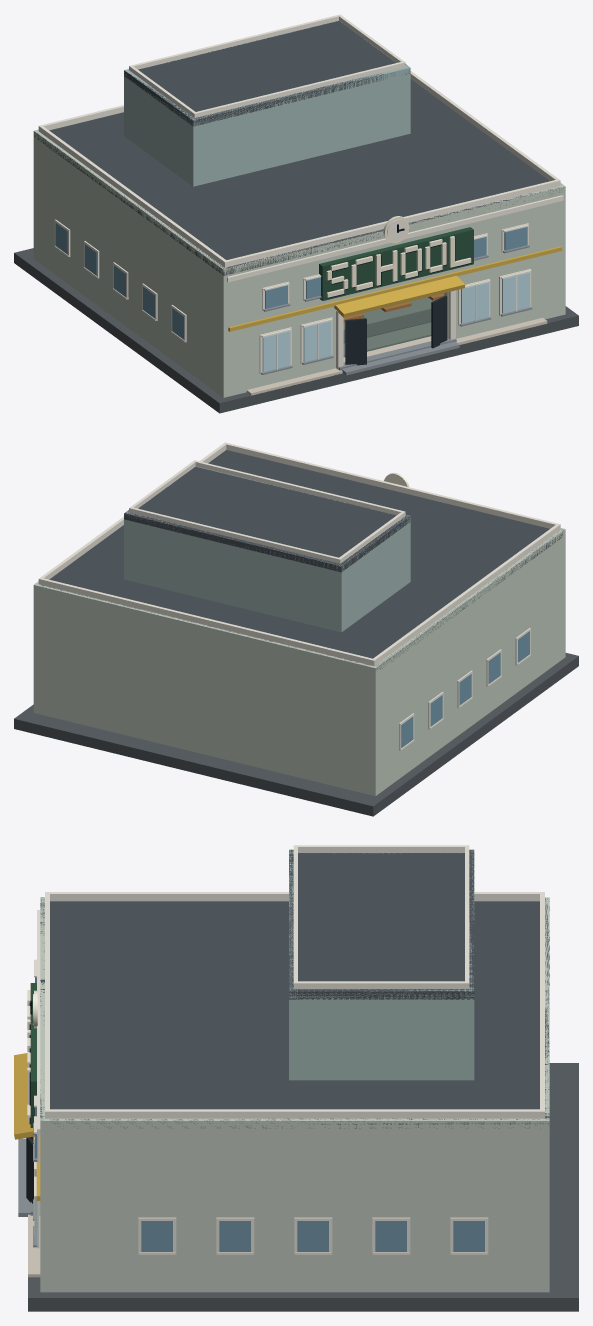
Rendered from school-building.glb.
3 renders of one model, top to bottom at view 1: azimuth 30°, elevation 25°; view 2: azimuth 150°, elevation 25°; view 3: azimuth 270°, elevation 25°, orthographic. The views are drawn at different scales.
Parts seen in each view (by area): view 1: school_cutaway_roof, school_hull_wall, school_exterior_detail, school_cutaway_upper, school_foundation, school_interior; view 2: school_hull_wall, school_cutaway_roof, school_cutaway_upper, school_foundation, school_exterior_detail; view 3: school_cutaway_roof, school_hull_wall, school_foundation, school_cutaway_upper, school_exterior_detail.
Part boxes in pixels (x1=…): school_cutaway_roof: x1=34, y1=14, x2=563, y2=275; school_hull_wall: x1=33, y1=129, x2=565, y2=397; school_exterior_detail: x1=54, y1=195, x2=563, y2=374; school_cutaway_upper: x1=124, y1=20, x2=410, y2=186; school_foundation: x1=14, y1=248, x2=578, y2=413; school_interior: x1=343, y1=293, x2=444, y2=357; school_hull_wall: x1=33, y1=528, x2=565, y2=796; school_cutaway_roof: x1=38, y1=442, x2=563, y2=669; school_cutaway_upper: x1=124, y1=466, x2=410, y2=632; school_foundation: x1=14, y1=653, x2=578, y2=816; school_exterior_detail: x1=384, y1=473, x2=530, y2=750; school_cutaway_roof: x1=40, y1=845, x2=549, y2=1128; school_hull_wall: x1=40, y1=897, x2=549, y2=1292; school_foundation: x1=18, y1=1063, x2=578, y2=1311; school_cutaway_upper: x1=289, y1=849, x2=474, y2=1080; school_exterior_detail: x1=14, y1=910, x2=488, y2=1254.
Size of the model in its own units: 22.8 by 12.67 by 23.18.
